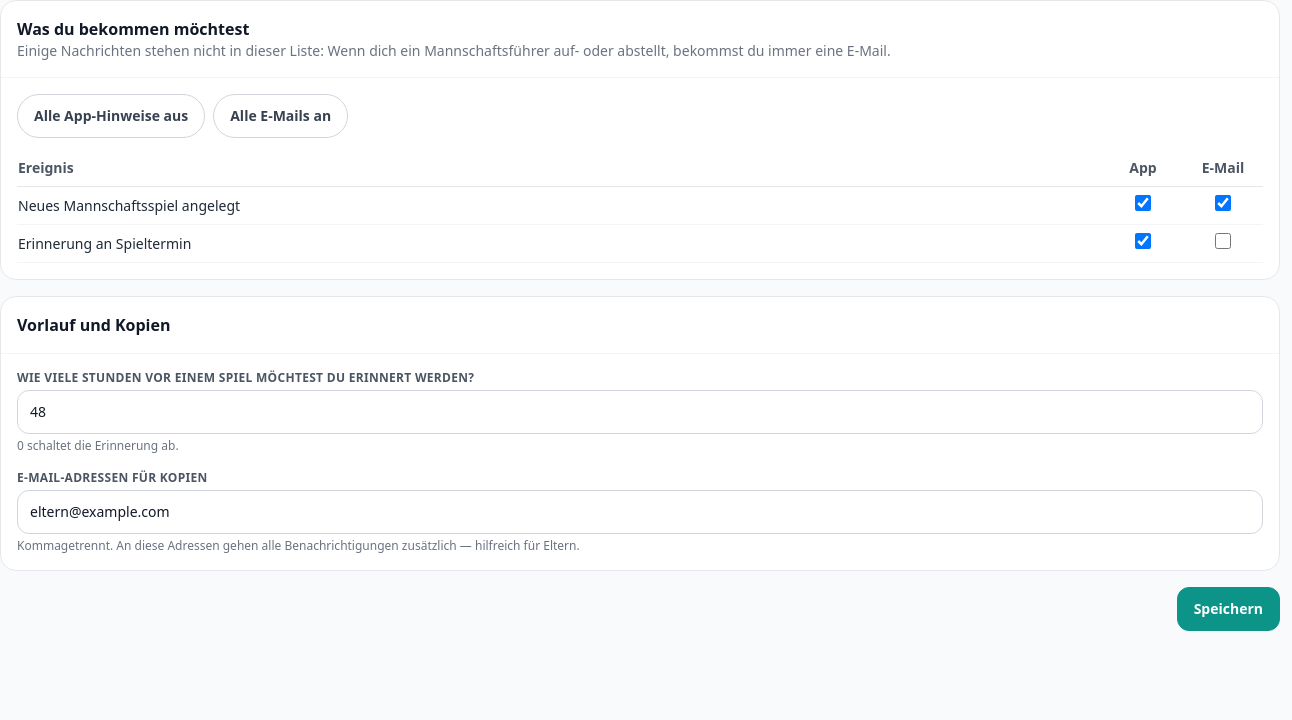
NotificationsTab › weist einen unsinnigen Vorlauf ab
Replace the text in the number field labelled "Wie viele Stunden vor einem Spiel" with "999". click: x=640, y=412
box: [17,390,1263,434]
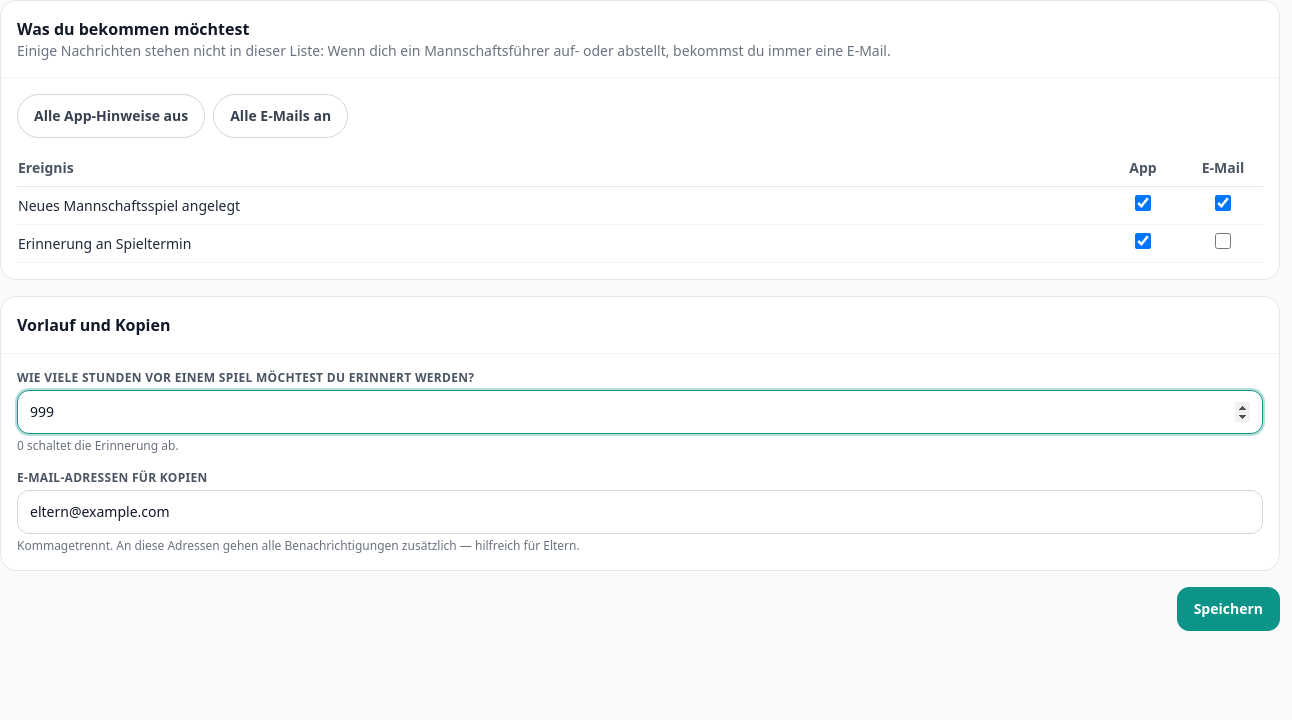
Click the button "Speichern". click: x=1228, y=609
box: [1177,587,1280,631]
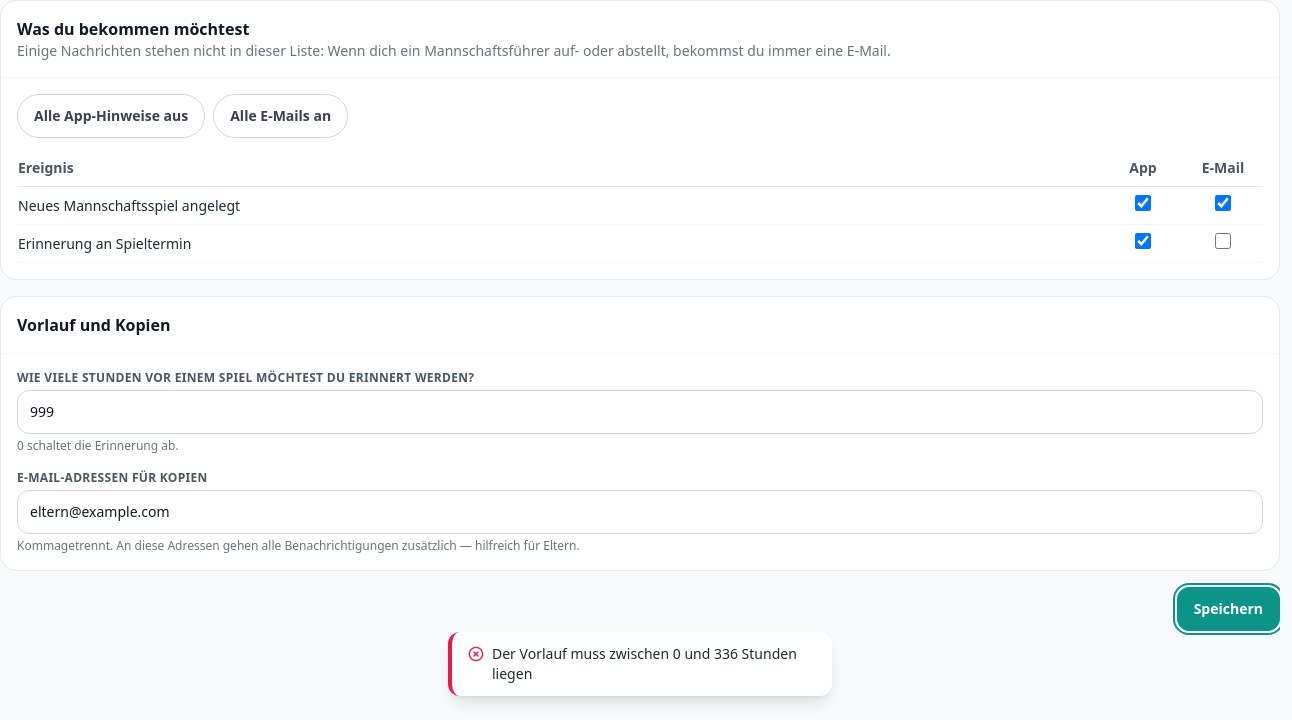
Now the text "Der Vorlauf muss zwischen 0 und 336 Stunden liegen" is shown, box [492,644,816,684]
